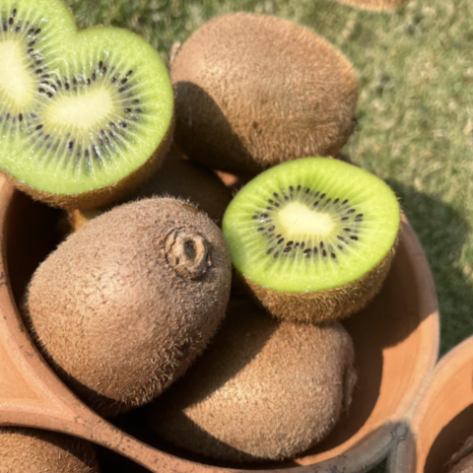kiwi: (0, 118, 291, 455), (116, 0, 391, 227)
